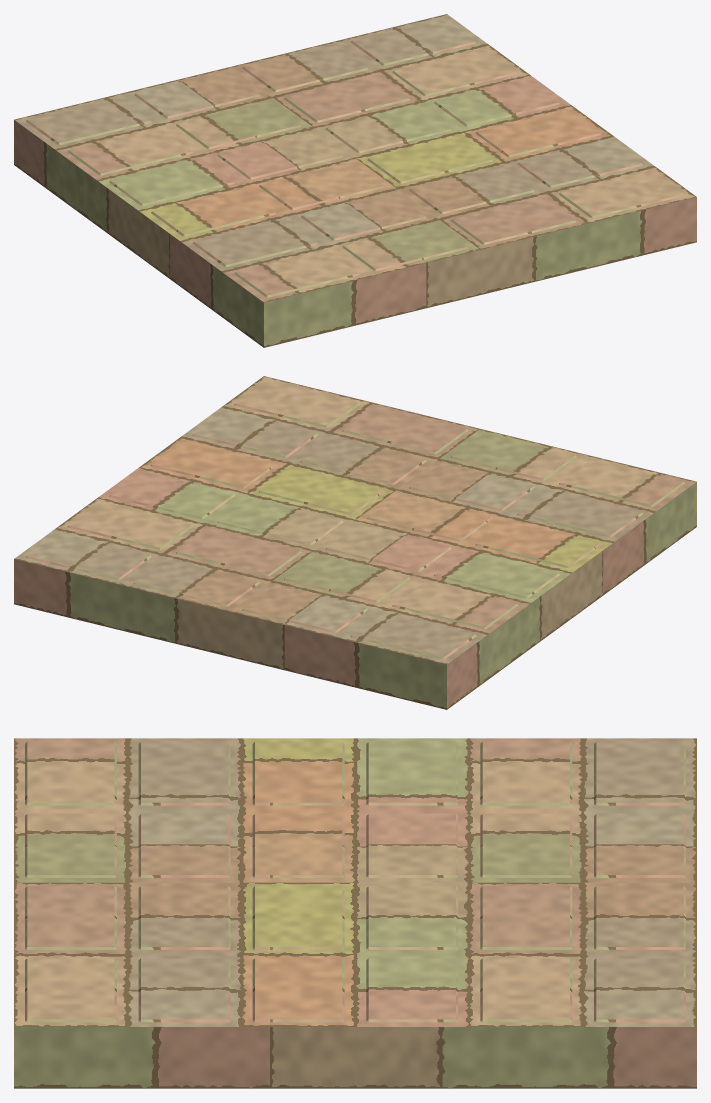
Rendered from Kit_Stone_Floor.fbx.
3 views of the same model, one above another, from view 1: azimuth 30°, elevation 25°; view 2: azimuth 150°, elevation 25°; view 3: azimuth 270°, elevation 25° (orthographic). The views are drawn at different scales.
Parts seen in each view (by area): view 1: Kit_Stone_Floor_LOD0; view 2: Kit_Stone_Floor_LOD0; view 3: Kit_Stone_Floor_LOD0.
Part boxes in pixels (x1=…): Kit_Stone_Floor_LOD0: x1=14, y1=14, x2=696, y2=347; Kit_Stone_Floor_LOD0: x1=14, y1=376, x2=696, y2=709; Kit_Stone_Floor_LOD0: x1=14, y1=738, x2=696, y2=1088.
Size of what is drawn, in the model's own units: 3 by 0.32 by 3.
